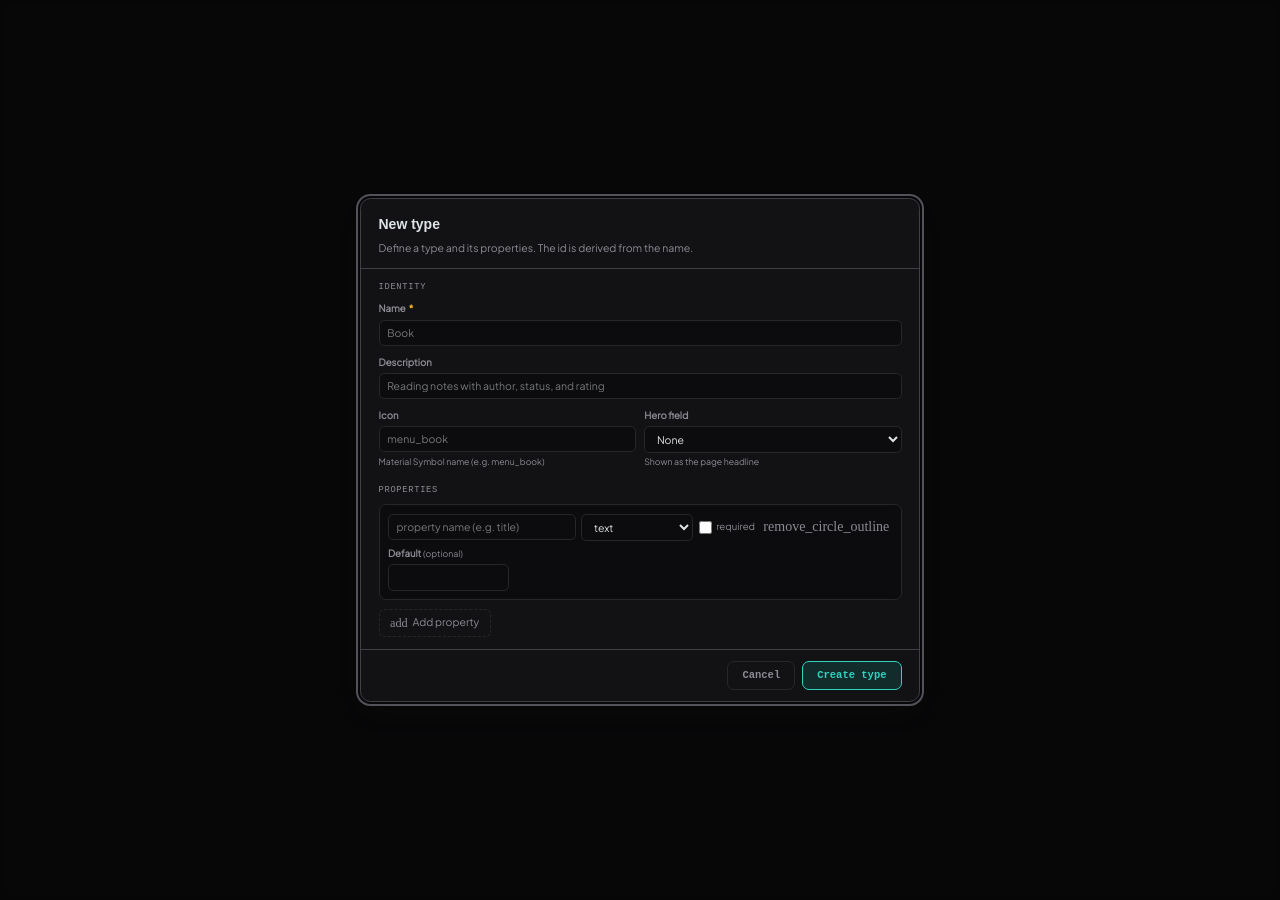
Test: TypeEditorDialog — property row editor › shows min/max inputs when type is number
The width and height of the screenshot is (1280, 900).
Select "number" in the dropdown named "Property 1 type" at [637, 527], box [581,514,693,540]
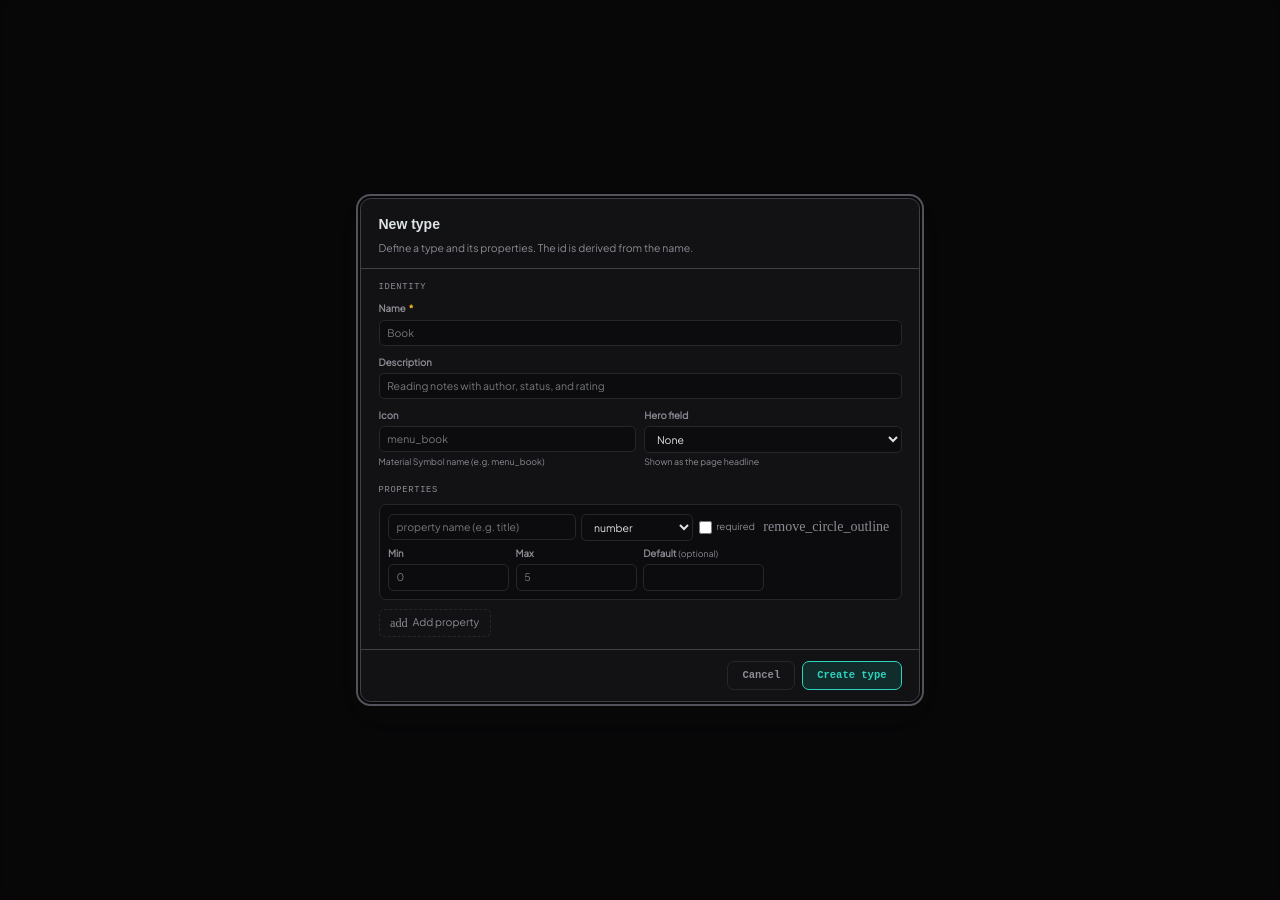
Expected: the number field labelled "Min" is shown, [388,564,509,591]
Expected: the number field labelled "Max" is shown, [516,564,637,591]
